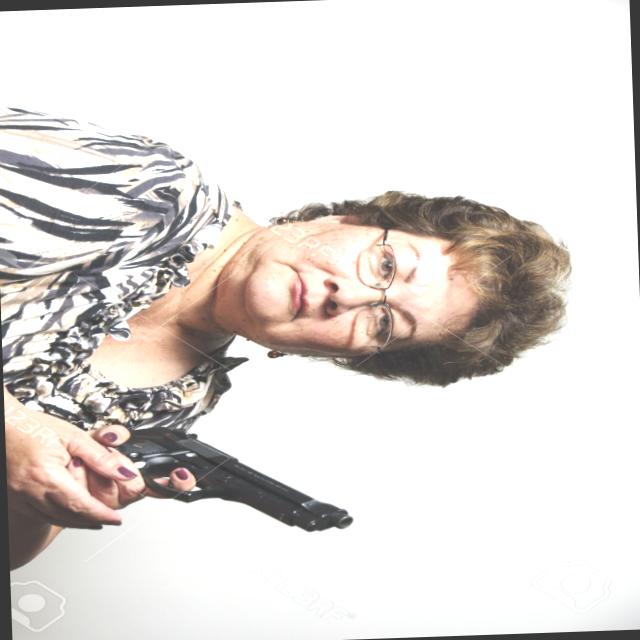handgun: (83, 416, 360, 544)
